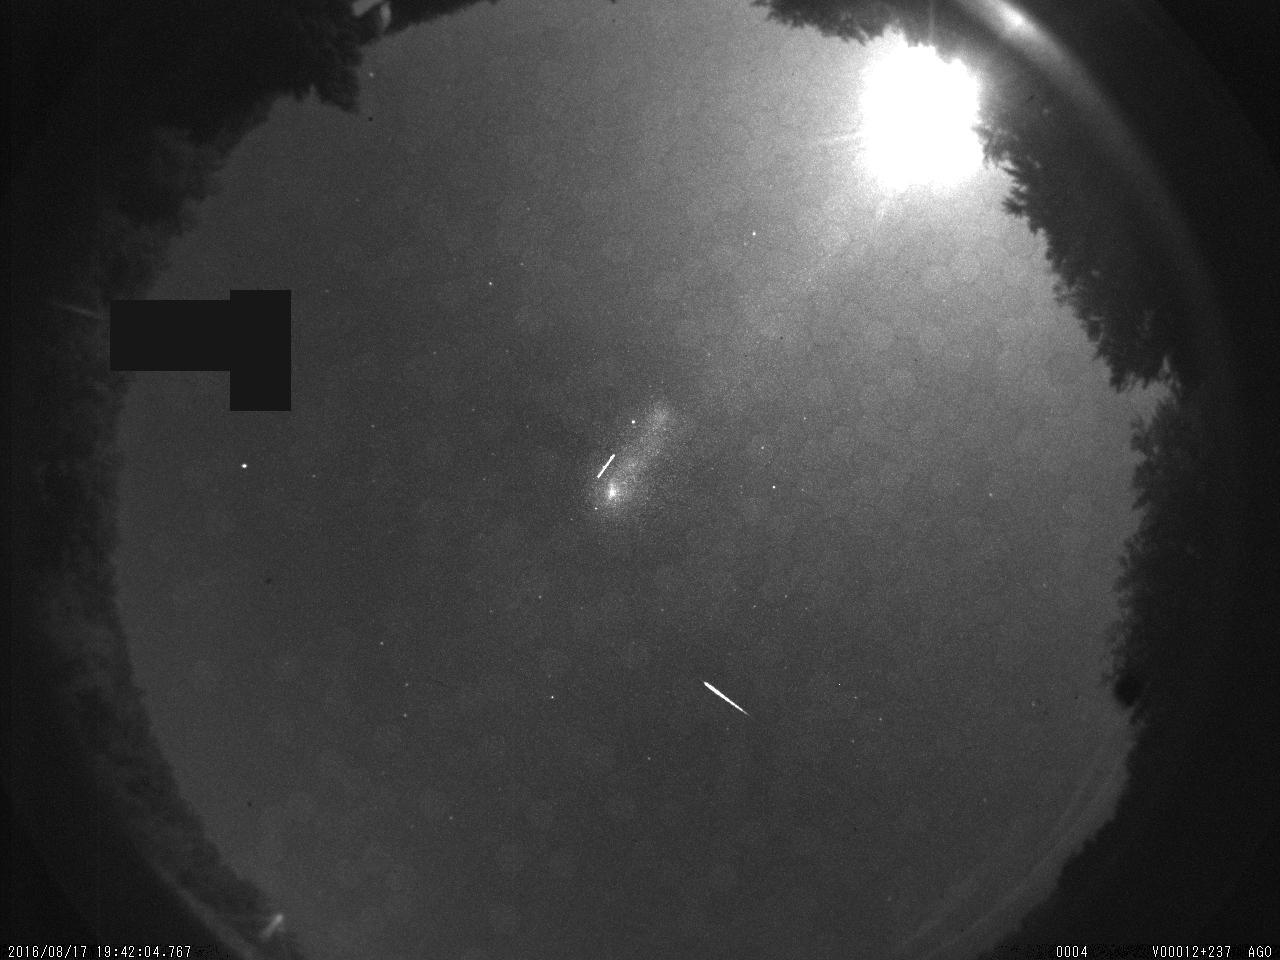meteor: (688, 671, 757, 721)
